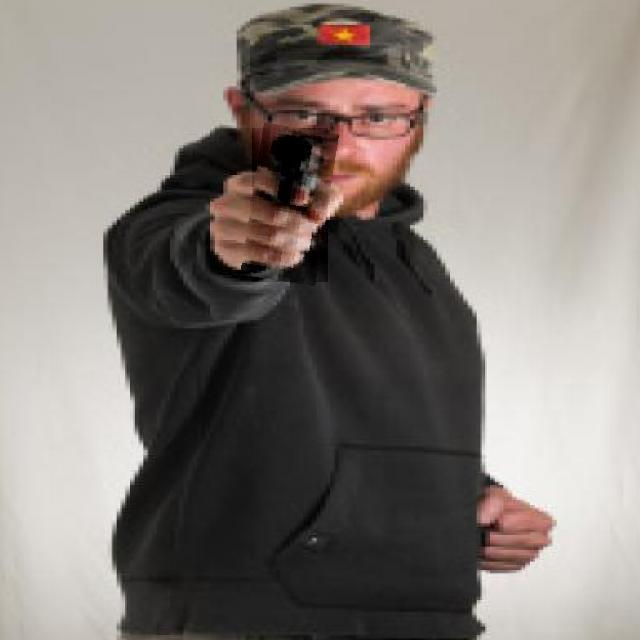handgun: (246, 126, 334, 284)
